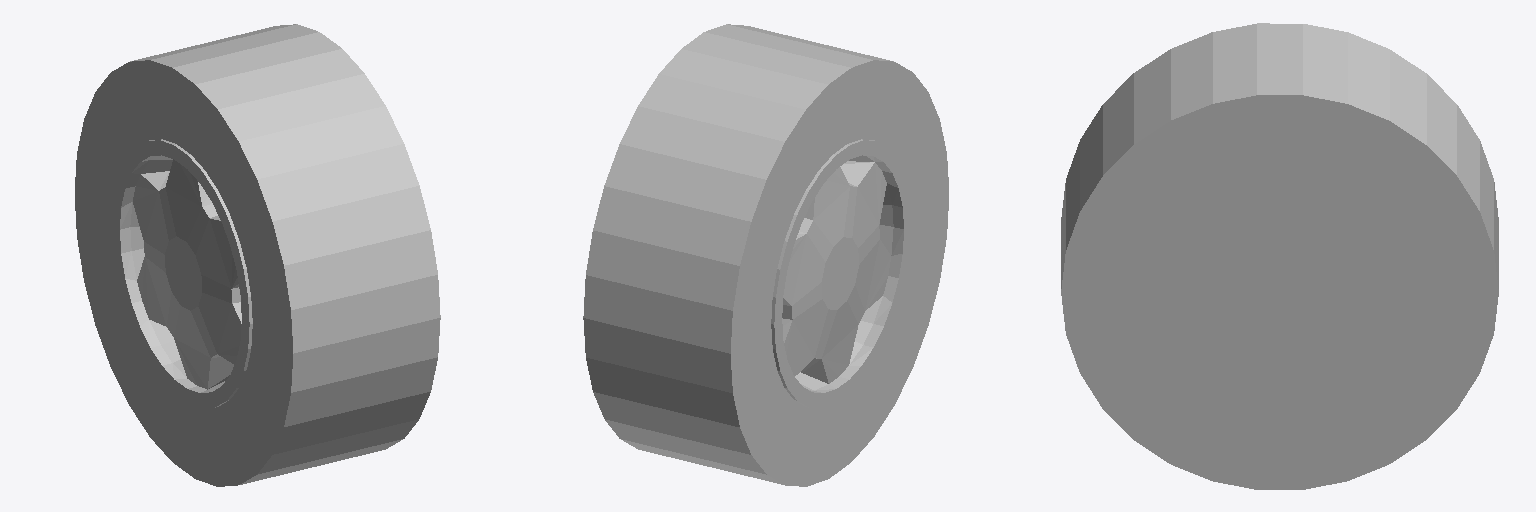
The model's file is wheel.obj.
The picture shows the model from 3 angles: view 1: azimuth 30°, elevation 25°; view 2: azimuth 150°, elevation 25°; view 3: azimuth 270°, elevation 25°; orthographic projection.
Parts seen in each view (by area): view 1: wheel_fr_Circle.161_BASIC_COLOR; view 2: wheel_fr_Circle.161_BASIC_COLOR; view 3: wheel_fr_Circle.161_BASIC_COLOR.
Part boxes in pixels (x1,y1,x2,y2): wheel_fr_Circle.161_BASIC_COLOR: (75, 24, 440, 486); wheel_fr_Circle.161_BASIC_COLOR: (583, 24, 948, 486); wheel_fr_Circle.161_BASIC_COLOR: (1061, 23, 1498, 489).
Size of the model in its own units: 0.2575 by 0.6463 by 0.6498.